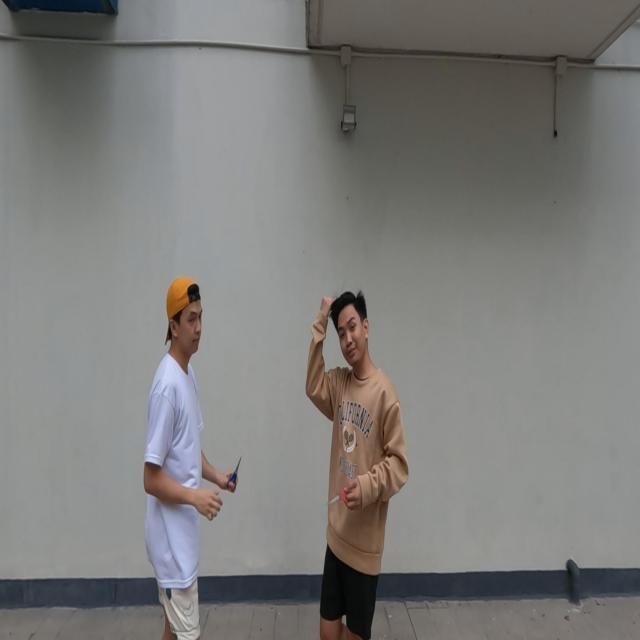scissor: (326, 485, 351, 508), (227, 456, 242, 492)
